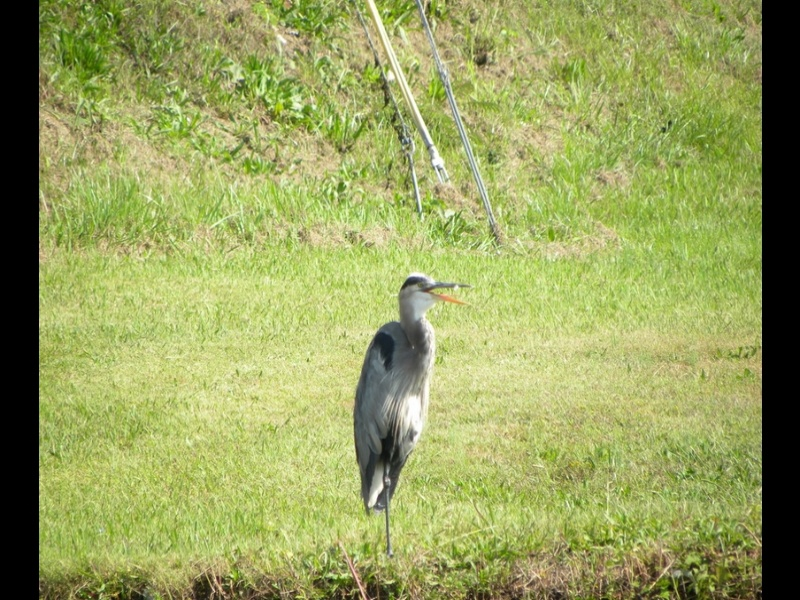heron: (352, 271, 477, 553)
